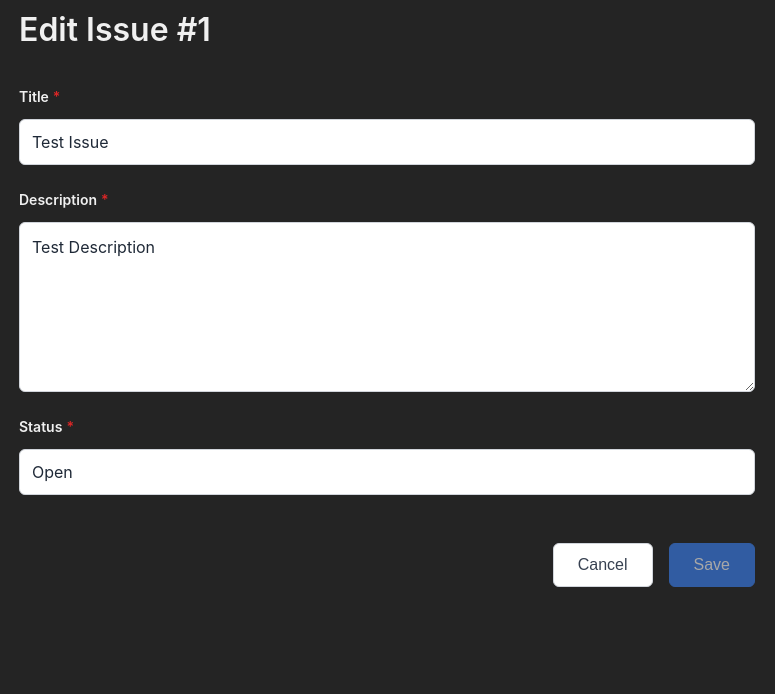
Scenario: EditIssuePage › API errors › clears error when dismiss button is clicked
Replace the text in the field labelled "Title*" with "Updated Title": (387, 142) 19,119 -> 755,165
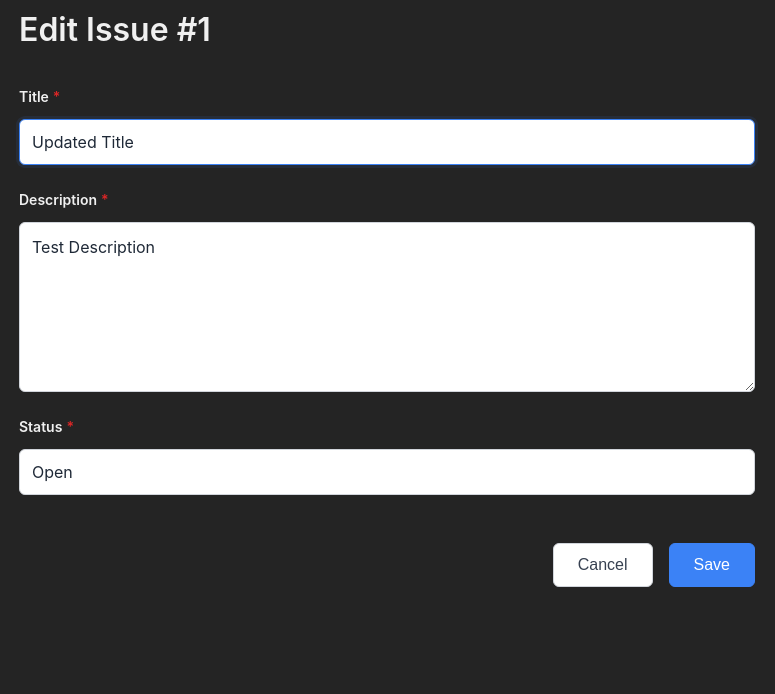
Click the button "Save": (712, 565) 668,543 -> 755,587
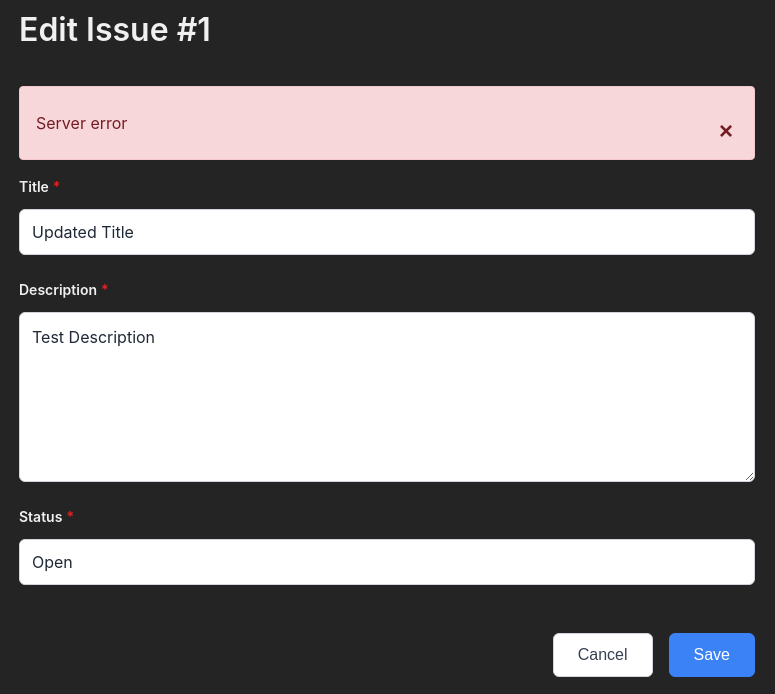
expect the text "Server error" is shown: met, box 36,113 -> 127,133
Click the button named "Dismiss error": (726, 131) 714,119 -> 738,143
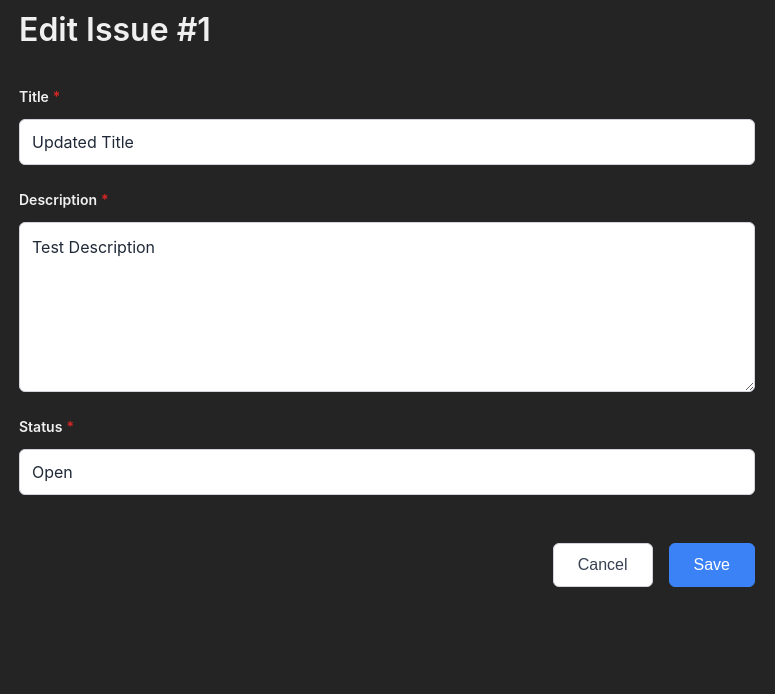
expect the text "Server error" is gone: met
